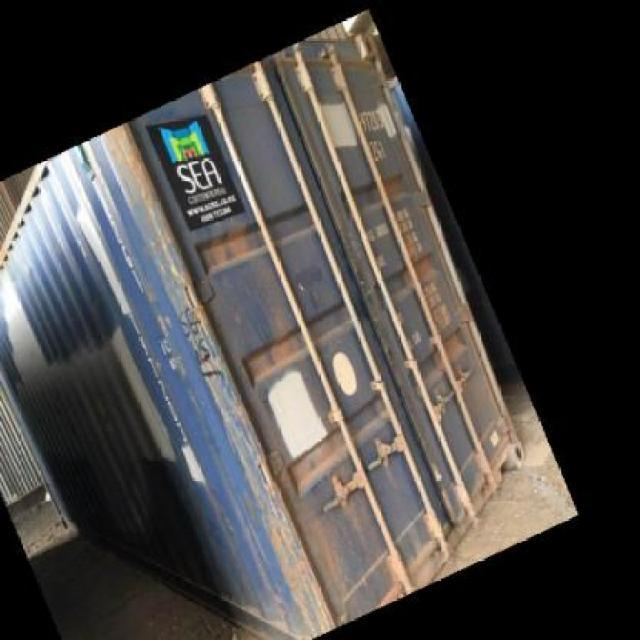rust: (246, 458, 334, 602), (172, 296, 226, 378), (195, 213, 266, 264), (243, 326, 309, 380), (429, 318, 477, 372), (364, 164, 416, 204), (394, 238, 440, 281)
